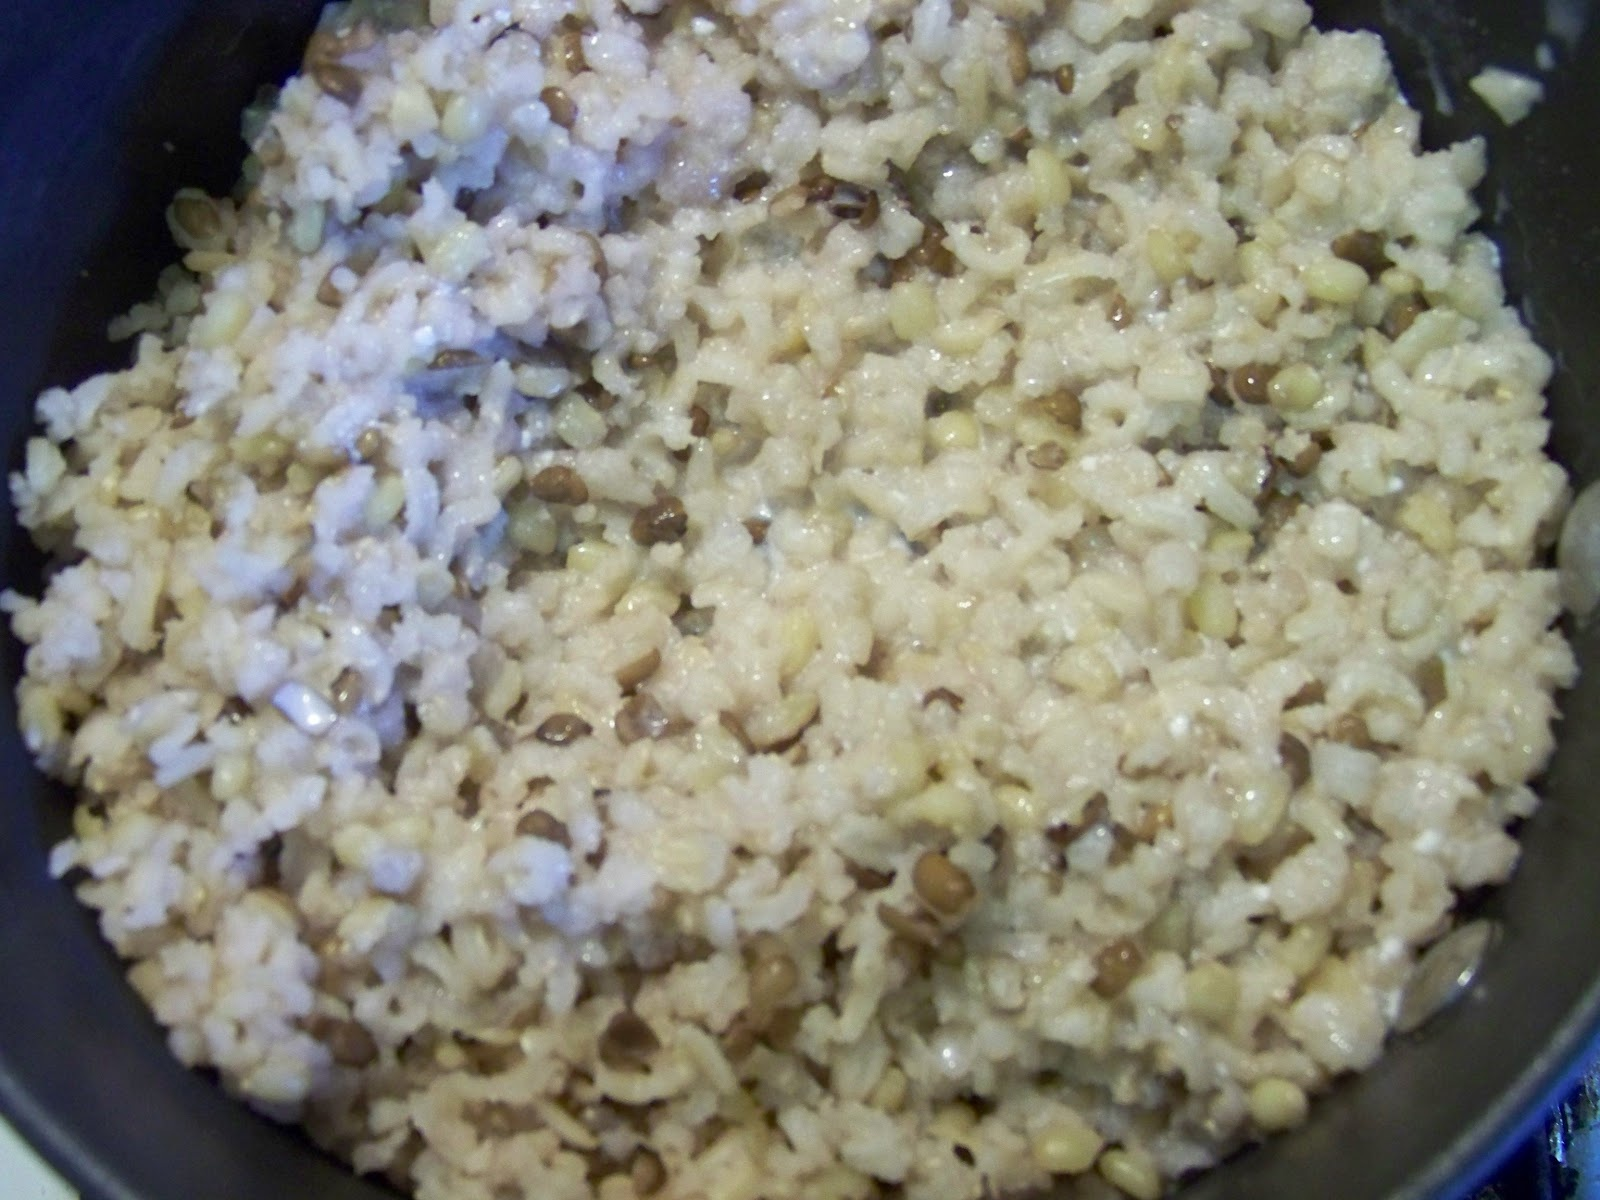kiribath: (30, 5, 1560, 1198)
